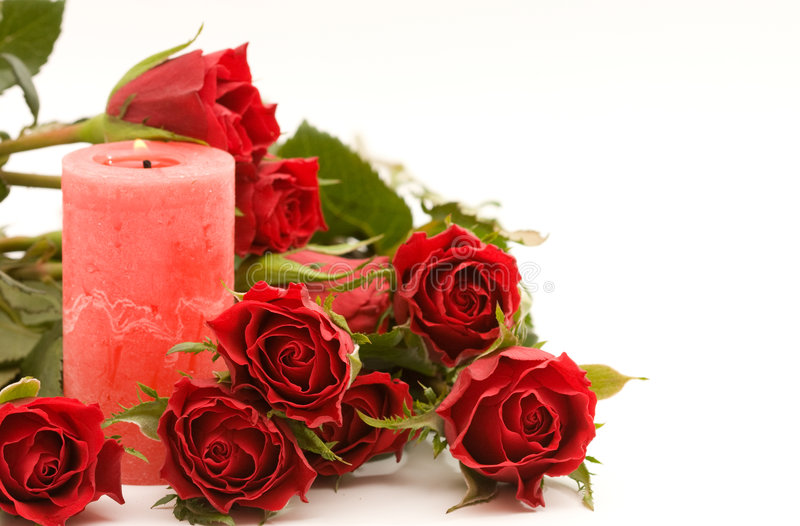RedRose: (115, 144, 340, 257), (150, 392, 314, 515), (94, 49, 289, 152), (454, 355, 608, 485), (385, 225, 529, 345), (225, 292, 354, 423), (0, 389, 118, 513), (317, 378, 422, 485)
